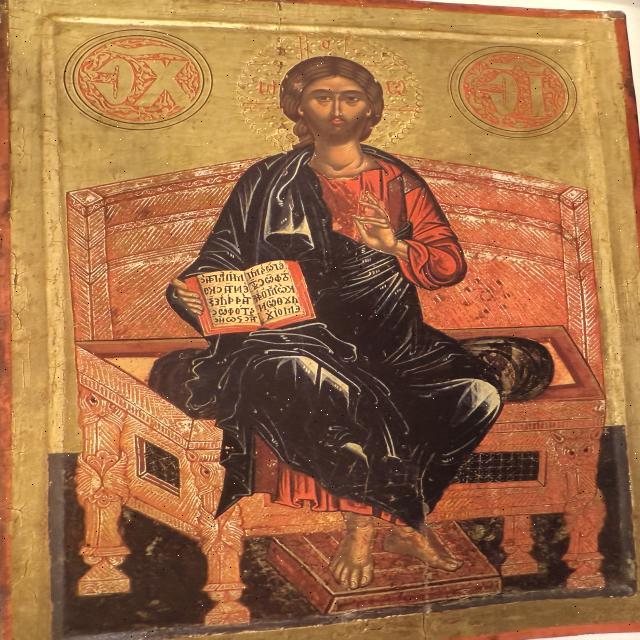aura: (231, 30, 423, 155)
book: (183, 250, 322, 339)
christ: (73, 18, 609, 614)
christ_hand: (351, 187, 435, 269)
